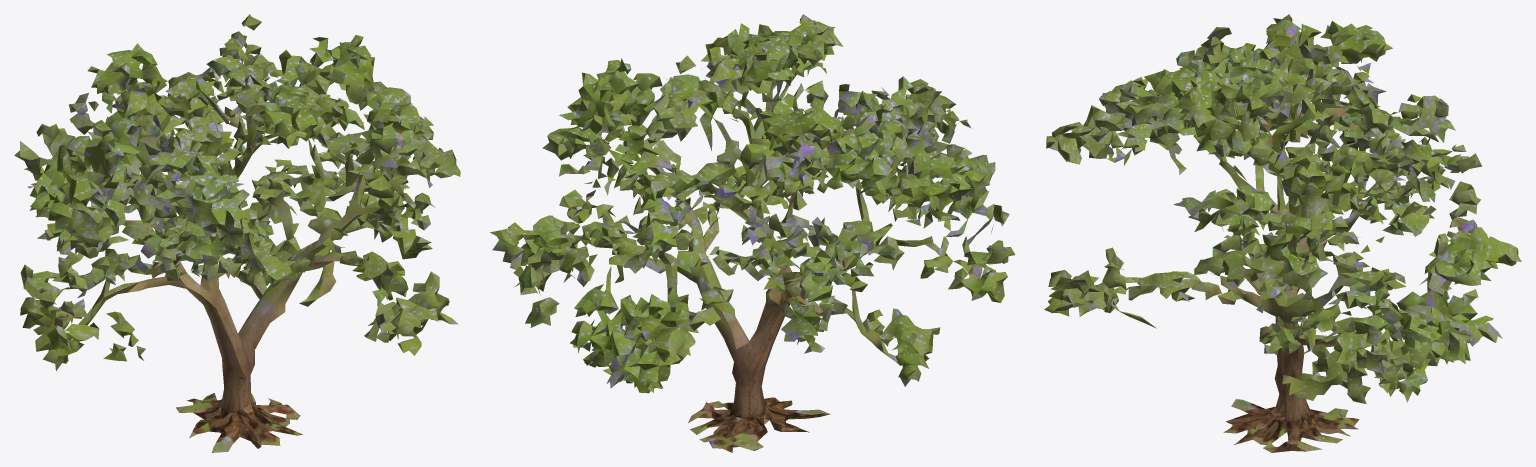
Rendered from generated-jacaranda.glb.
3 renders of one model, left to right at view 1: azimuth 30°, elevation 25°; view 2: azimuth 150°, elevation 25°; view 3: azimuth 270°, elevation 25°, orthographic.
Visible parts, largest first — view 1: tree-1-textured; view 2: tree-1-textured; view 3: tree-1-textured.
Boxes of the visible parts, box(x1,y1,x2,y2) form: tree-1-textured: box(14, 14, 460, 452); tree-1-textured: box(490, 14, 1015, 452); tree-1-textured: box(1044, 14, 1521, 452).
Bounding box in the file's own units: 1.99 × 1.63 × 1.84.
1 material, 1 textured.
